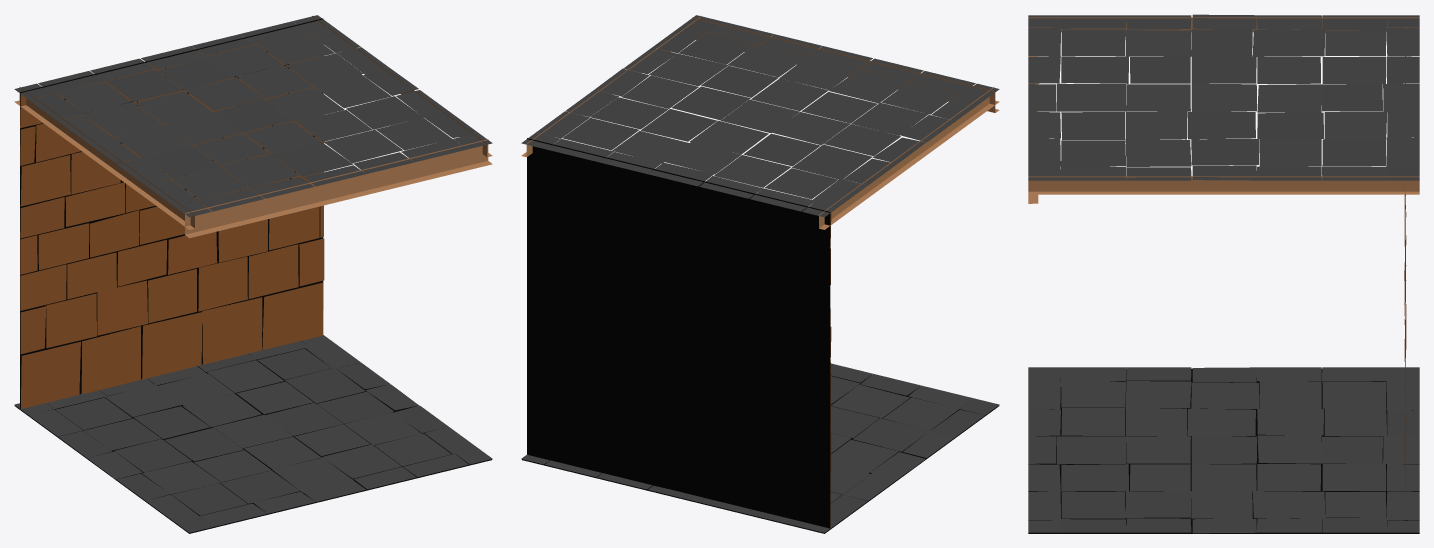
The model's file is wall_2.glb.
The picture shows the model from 3 angles, left to right: view 1: azimuth 30°, elevation 25°; view 2: azimuth 150°, elevation 25°; view 3: azimuth 270°, elevation 25°; orthographic projection. The views are drawn at different scales.
Visible parts, largest first — view 1: wall_2; view 2: wall_2; view 3: wall_2.
Boxes of the visible parts, x1,y1,x2,y2 form: wall_2: (14, 15, 492, 533); wall_2: (521, 15, 999, 533); wall_2: (1028, 14, 1419, 533).
Size of the model in its own units: 3 by 3 by 3.
1 material, 1 textured.
